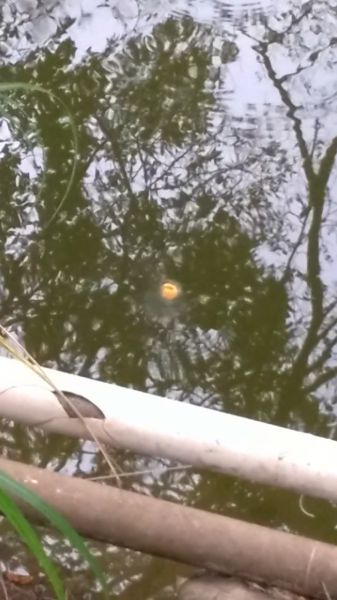eggs: (154, 276, 183, 302)
